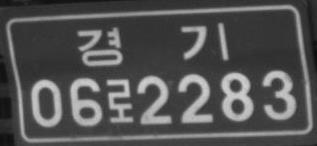0: (30, 77, 63, 129)
2: (177, 71, 214, 124), (136, 74, 173, 125)
3: (261, 68, 297, 121)
6: (69, 76, 102, 127)
8: (220, 71, 254, 122)
경기_D: (76, 21, 230, 68)
로: (105, 77, 135, 124)
